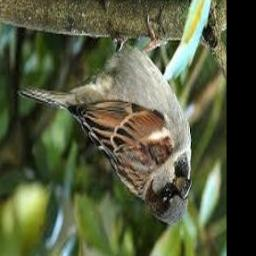Sparrow: (18, 18, 191, 225)
